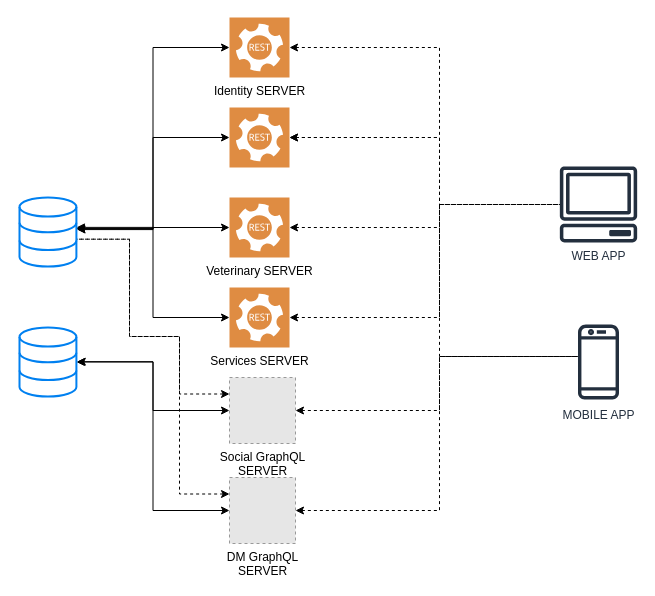
The diagram is 655 pixels wide and 596 high, and some of its shapes have lost their labels. Grey dashed boxes stand in for pictures. The shapes that lost their labels are listed below. From the top down, each one's centre as x and y in pixels, then its label:
At point 259,137: "Pets SERVER".
At point 47,231: "noSQL DATABASE".
At point 47,361: "graph DATABASE".
